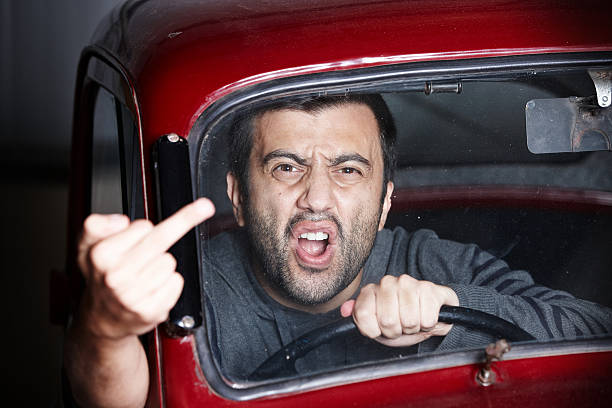insulting_gesture: (69, 194, 219, 340)
